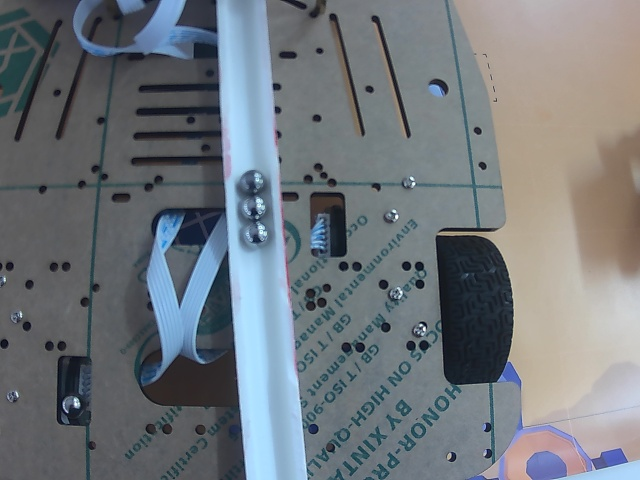steelball: (242, 223, 268, 249), (240, 196, 267, 220), (238, 170, 264, 194)
